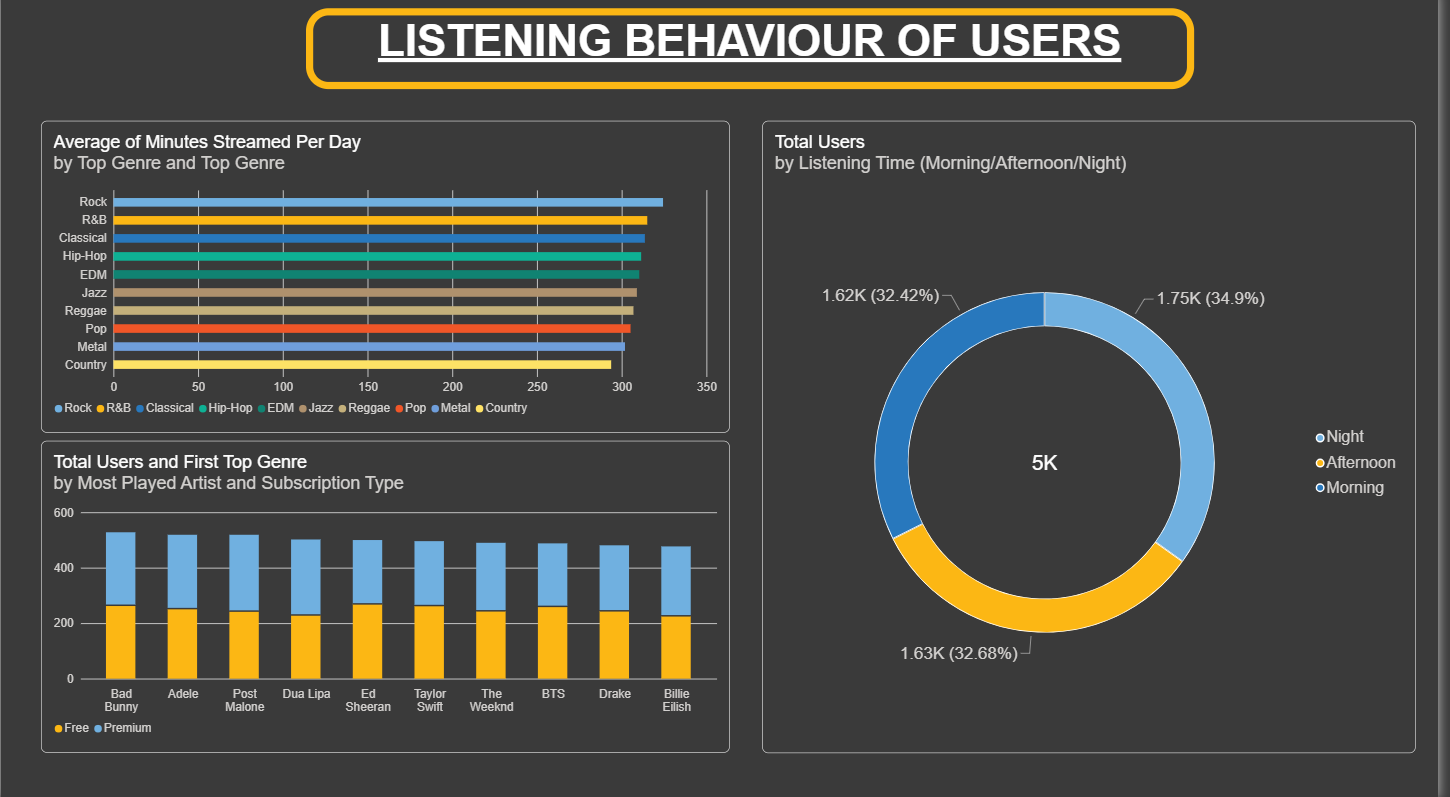

The dashboard page shown, as its layout file describes it:
{"tool":"powerbi","page":{"name":"LISTENING BEHAVIOUR OF USERS","canvas":[1920,1080],"ordinal":2},"visuals":[{"type":"textbox","box":[408.1,20.9,1186,108.1],"z":0},{"type":"barChart","fields":{"Category":["Global_Music_Streaming_Listener_Preferences.Top Genre"],"Y":["Avg(Global_Music_Streaming_Listener_Preferences.Minutes Streamed Per Day)"],"Series":["Global_Music_Streaming_Listener_Preferences.Top Genre"]},"box":[54,172.8,920.2,416.9],"z":1000},{"type":"columnChart","fields":{"Category":["Global_Music_Streaming_Listener_Preferences.Most Played Artist"],"Y":["CountNonNull(Global_Music_Streaming_Listener_Preferences.User_ID)"],"Series":["Global_Music_Streaming_Listener_Preferences.Subscription Type"]},"box":[54,600,920,417],"z":2000},{"type":"donutChart","fields":{"Category":["Global_Music_Streaming_Listener_Preferences.Listening Time (Morning/Afternoon/Night)"],"Y":["CountNonNull(Global_Music_Streaming_Listener_Preferences.User_ID)"]},"box":[1017.4,172.8,872.6,844.6],"z":3000}]}

Visuals, with their boxes in screenshot pixels (x1, y1, x2, y2), scaled from the page's 1920x1080 canvas onto the 1450x797 screenshot:
textbox: select_region(308, 15, 1204, 95)
barChart - Global_Music_Streaming_Listener_Preferences.Top Genre x Avg(Global_Music_Streaming_Listener_Preferences.Minutes Streamed Per Day): select_region(41, 128, 736, 435)
columnChart - Global_Music_Streaming_Listener_Preferences.Most Played Artist x CountNonNull(Global_Music_Streaming_Listener_Preferences.User_ID): select_region(41, 443, 736, 751)
donutChart - Global_Music_Streaming_Listener_Preferences.Listening Time (Morning/Afternoon/Night) x CountNonNull(Global_Music_Streaming_Listener_Preferences.User_ID): select_region(768, 128, 1427, 751)
